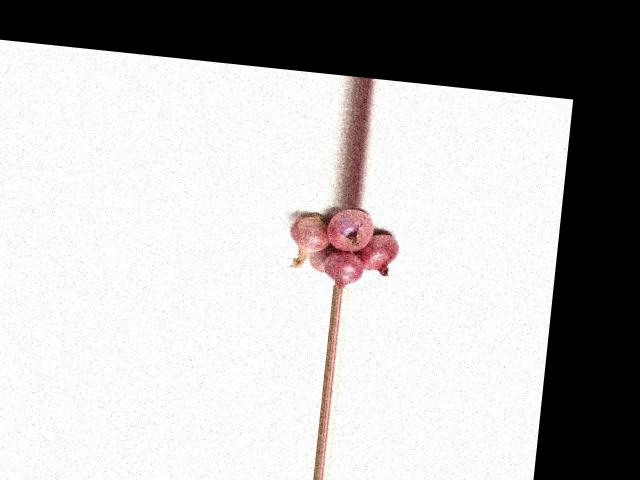onion: (316, 204, 376, 254)
